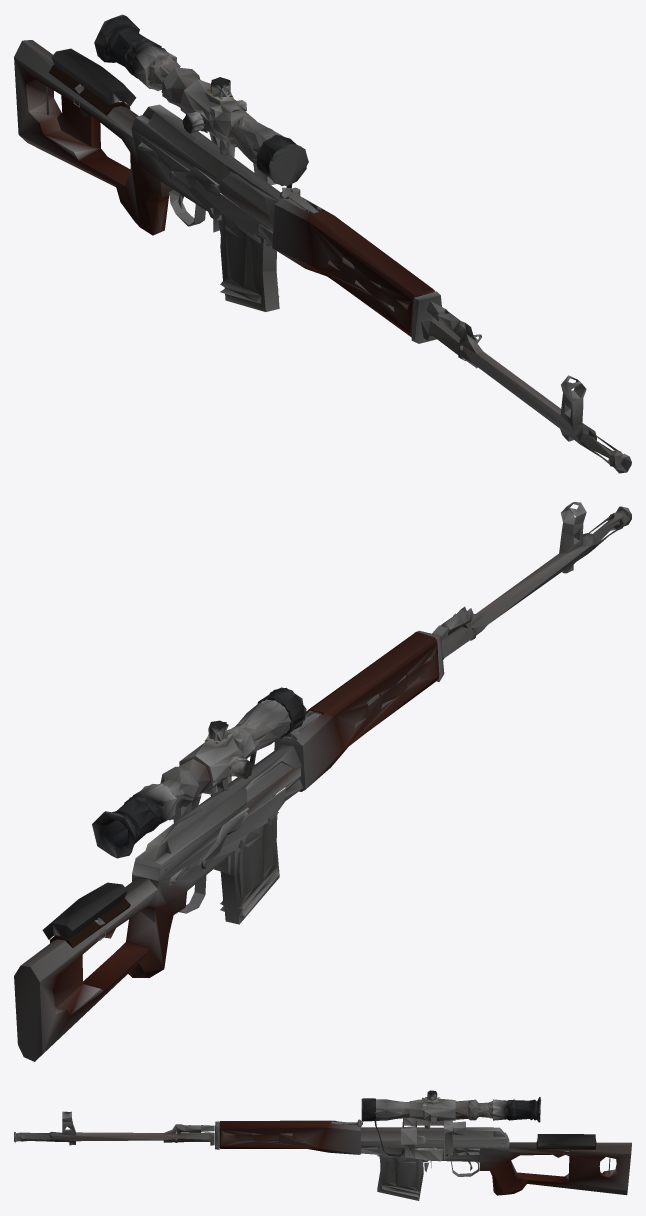
Rendered from svd12.glb.
The picture shows the model from 3 angles, top to bottom: view 1: azimuth 30°, elevation 25°; view 2: azimuth 150°, elevation 25°; view 3: azimuth 270°, elevation 25°; orthographic projection. The views are drawn at different scales.
Parts seen in each view (by area): view 1: gun_svd_63_cleaned; view 2: gun_svd_63_cleaned; view 3: gun_svd_63_cleaned.
Boxes of the visible parts, x1=… form: gun_svd_63_cleaned: x1=14, y1=14, x2=631, y2=473; gun_svd_63_cleaned: x1=14, y1=502, x2=631, y2=1061; gun_svd_63_cleaned: x1=14, y1=1090, x2=631, y2=1200.
Size of the model in its own units: 0.0591 by 0.1925 by 1.
